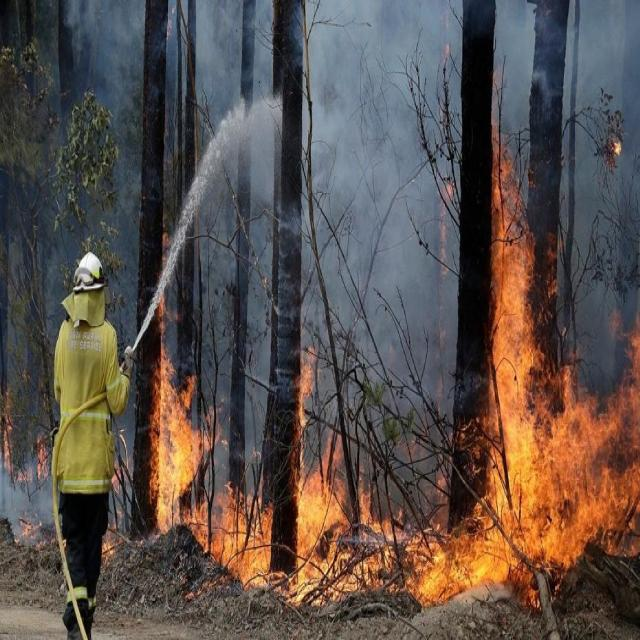fire: (495, 373, 640, 552), (152, 346, 196, 528), (493, 173, 533, 368), (297, 465, 348, 609), (210, 492, 273, 590), (413, 527, 483, 599)
